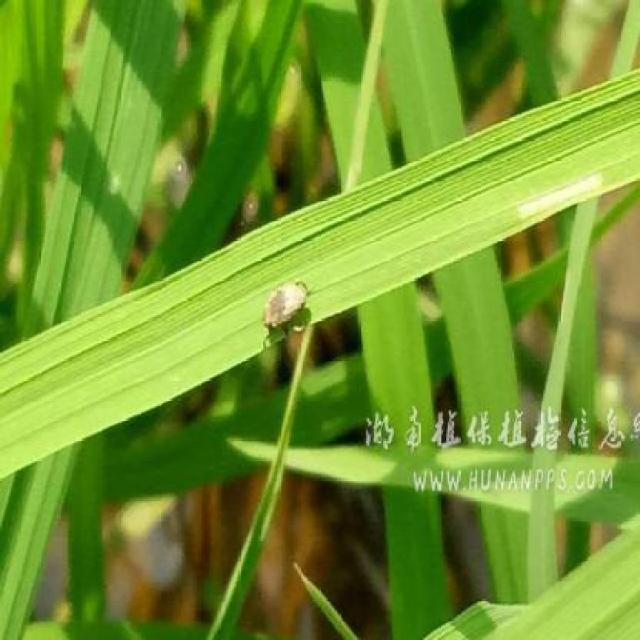rice-bug: (264, 273, 316, 342)
